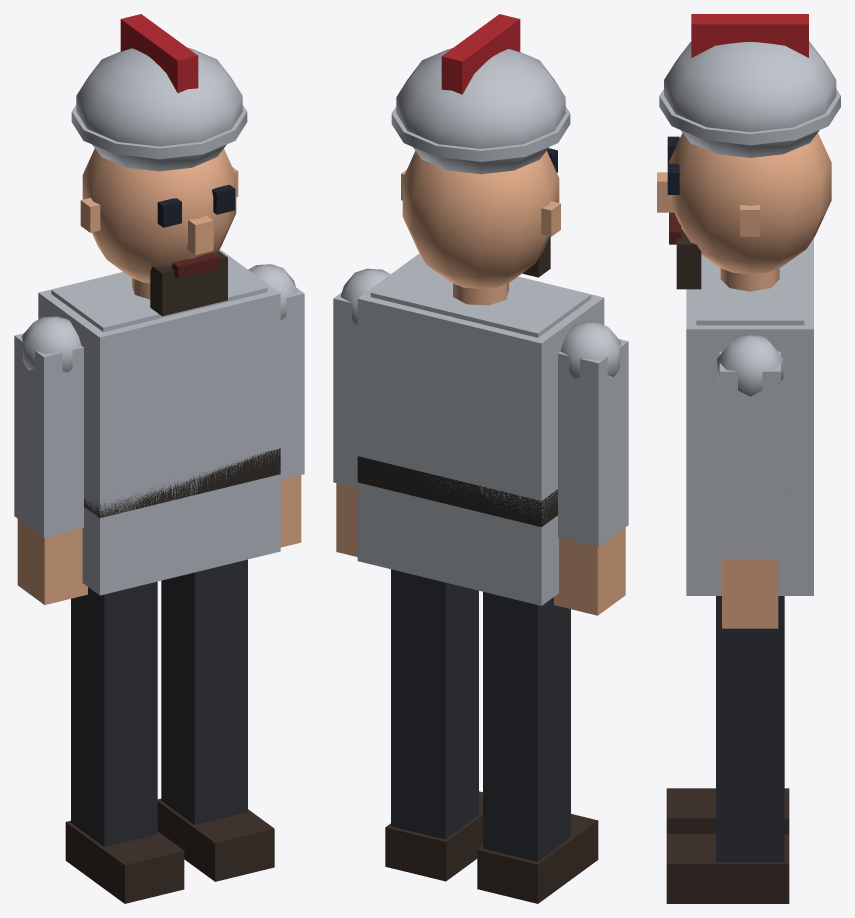
The model's file is giust.glb.
3 views of the same model, side by side, from view 1: azimuth 30°, elevation 25°; view 2: azimuth 150°, elevation 25°; view 3: azimuth 270°, elevation 25° (orthographic). The views are drawn at different scales.
Parts seen in each view (by area): view 1: Body, LegR, LegL, ArmR, Hat, Head, ArmL, Mouth; view 2: Body, LegR, LegL, ArmR, Hat, Head, ArmL; view 3: Body, LegL, Hat, Head, ArmL, LegR.
Boxes of the visible parts, left/top/right/bottom form: Body: left=38, top=249, right=280, bottom=595; LegR: left=65, top=581, right=184, bottom=903; LegL: left=157, top=559, right=274, bottom=881; ArmR: left=14, top=316, right=87, bottom=604; Hat: left=71, top=14, right=247, bottom=171; Head: left=80, top=148, right=238, bottom=316; ArmL: left=248, top=264, right=304, bottom=547; Mouth: left=172, top=252, right=219, bottom=278; Body: left=357, top=253, right=604, bottom=605; LegR: left=477, top=592, right=598, bottom=903; LegL: left=385, top=569, right=482, bottom=881; ArmR: left=554, top=321, right=628, bottom=615; Hat: left=391, top=14, right=570, bottom=174; Head: left=401, top=148, right=560, bottom=289; ArmL: left=333, top=268, right=390, bottom=556; Body: left=686, top=238, right=813, bottom=595; LegL: left=666, top=596, right=789, bottom=903; Hat: left=659, top=14, right=840, bottom=157; Head: left=657, top=133, right=831, bottom=289; ArmL: left=717, top=334, right=783, bottom=628; LegR: left=666, top=788, right=789, bottom=833.
Bounding box in the file's own units: 0.6556 × 1.91 × 0.375.
